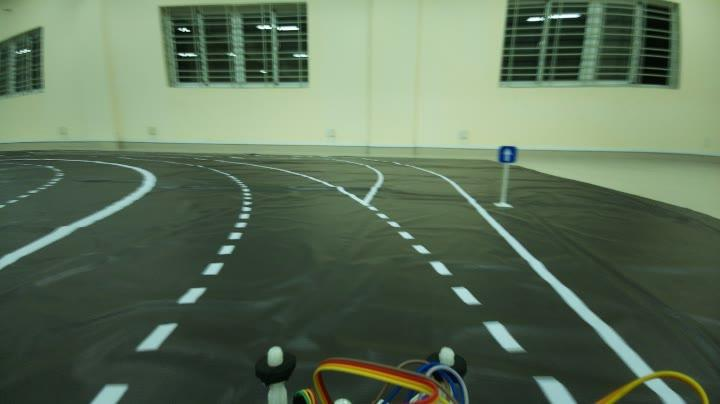onewayroad: (489, 140, 521, 168)
